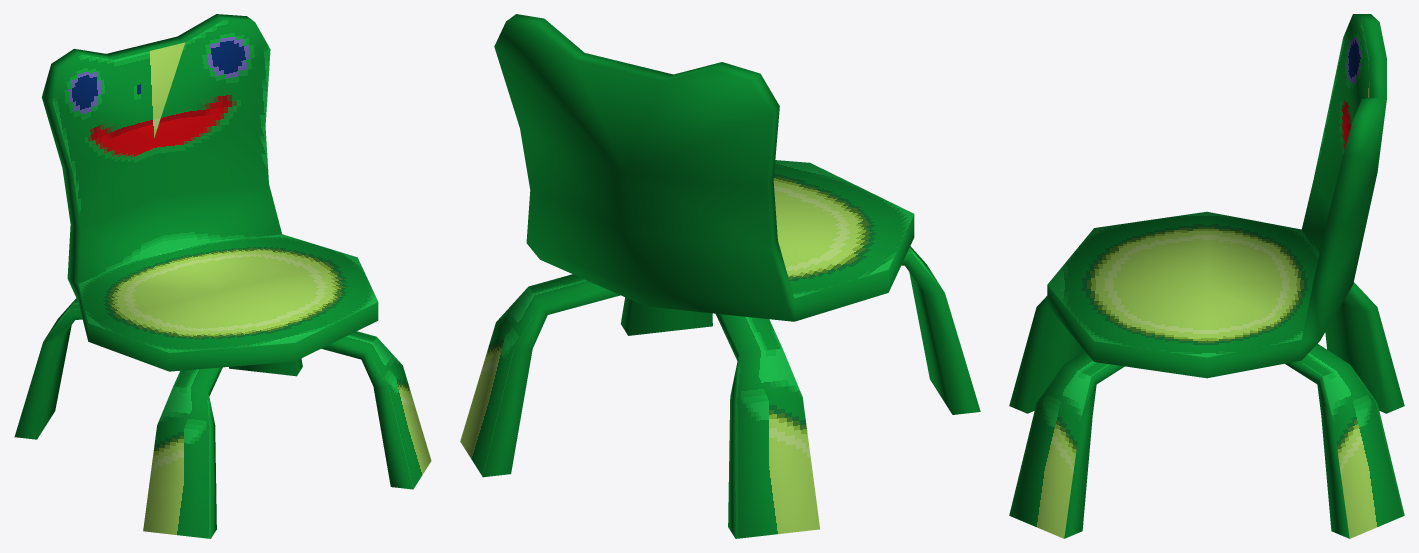
Rendered from Froggy_Chair.obj.
3 views of the same model, side by side, from view 1: azimuth 30°, elevation 25°; view 2: azimuth 150°, elevation 25°; view 3: azimuth 270°, elevation 25° (orthographic). The views are drawn at different scales.
Parts seen in each view (by area): view 1: polygon0.001; view 2: polygon0.001; view 3: polygon0.001.
Part boxes in pixels (left/top/right/bottom): polygon0.001: left=14, top=14, right=431, bottom=538; polygon0.001: left=460, top=14, right=980, bottom=538; polygon0.001: left=1009, top=14, right=1404, bottom=538.
Size of the model in its own units: 22.79 by 27.23 by 24.39.
Materials: 1 (1 with a texture image).
